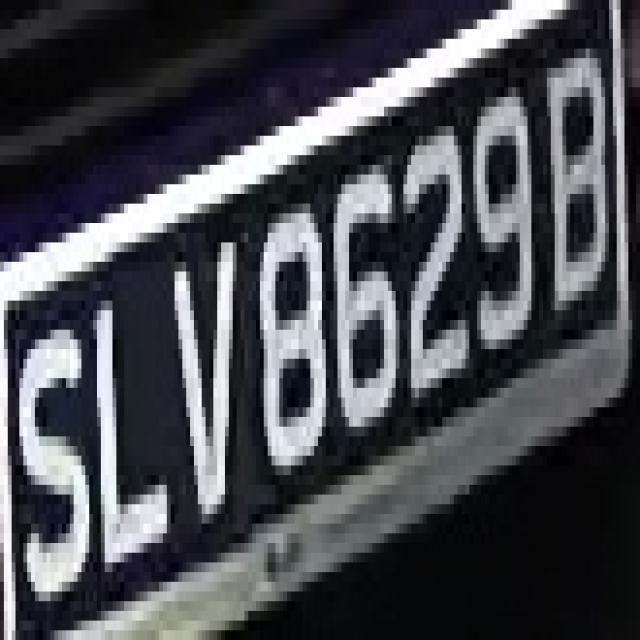2: (404, 97, 474, 436)
6: (334, 136, 404, 465)
8: (248, 194, 334, 504)
9: (465, 58, 543, 369)
B: (547, 29, 617, 339)
L: (81, 252, 170, 601)
S: (0, 300, 93, 640)
V: (167, 175, 244, 572)
